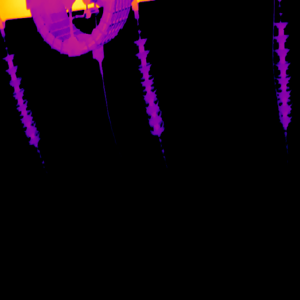insulator: (3, 51, 39, 148), (133, 35, 165, 136), (272, 20, 292, 128)
